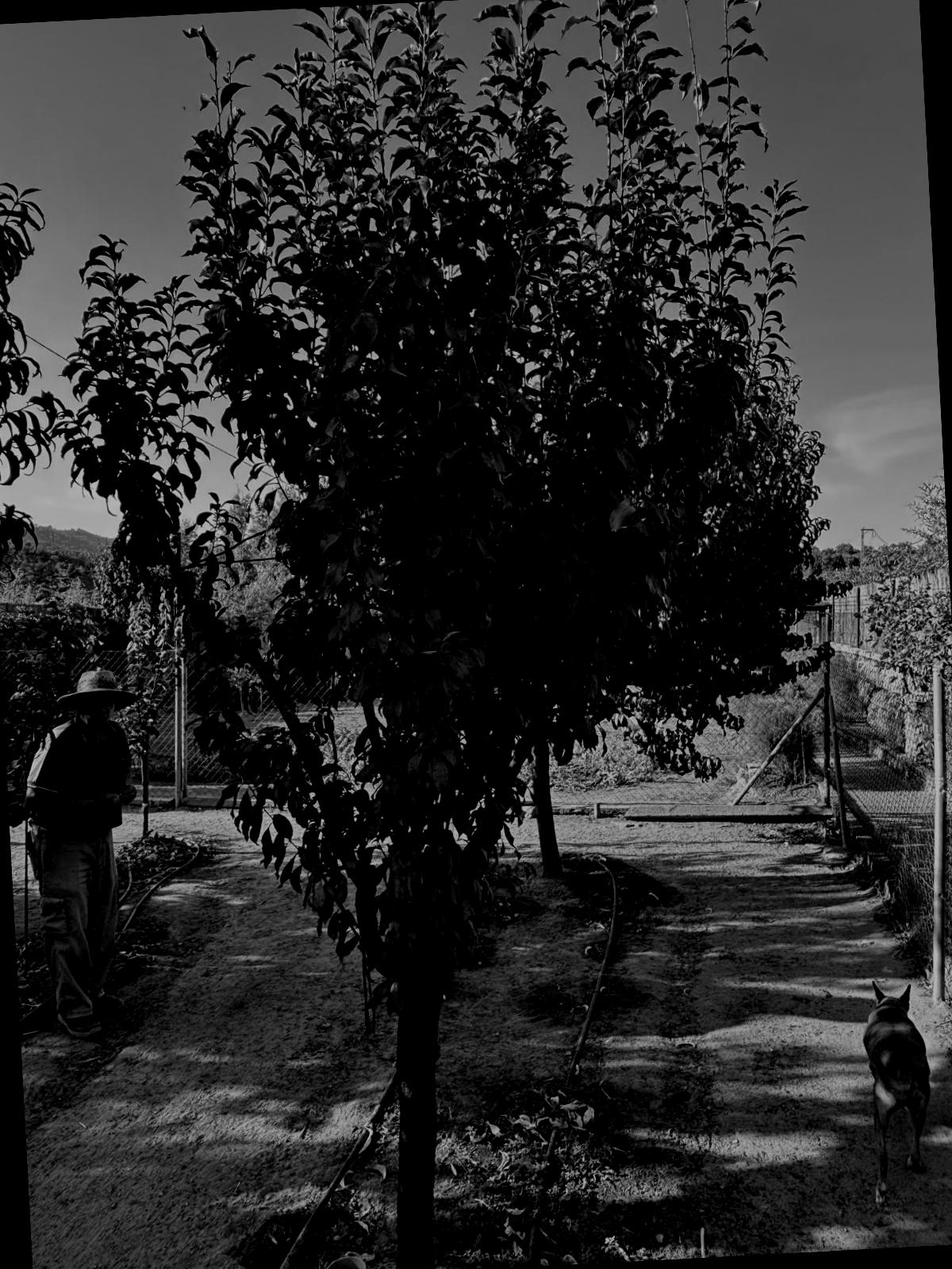ciruelo: (191, 289, 709, 1269)
